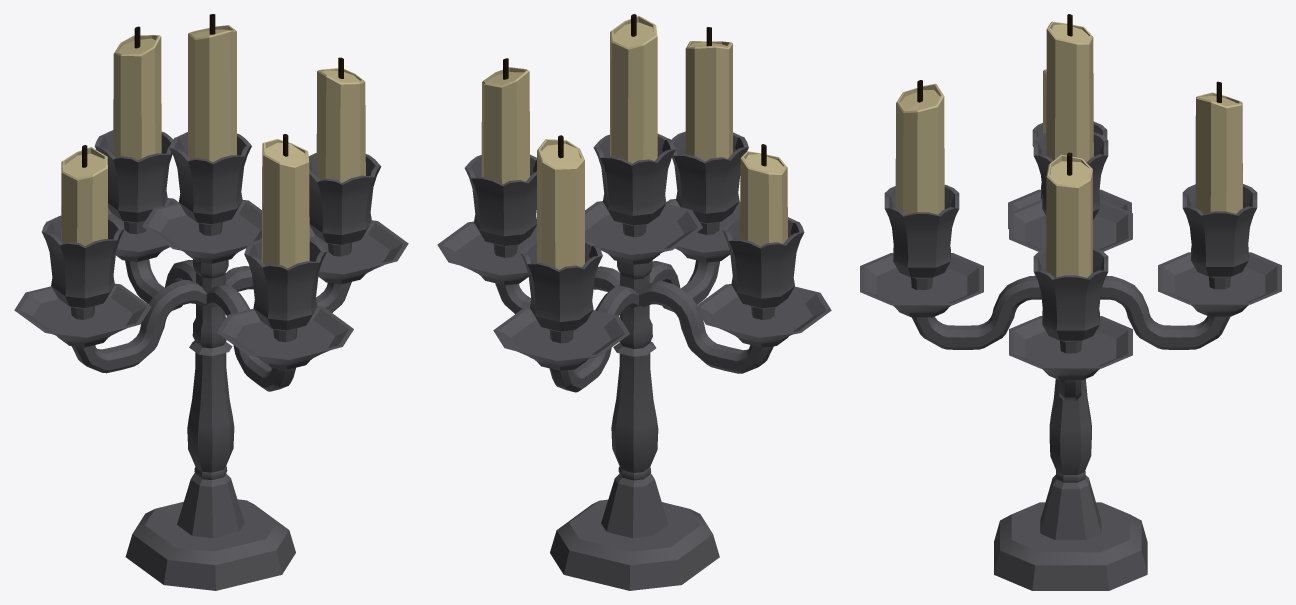
The model's file is TableLight.fbx.
3 renders of one model, left to right at view 1: azimuth 30°, elevation 25°; view 2: azimuth 150°, elevation 25°; view 3: azimuth 270°, elevation 25°, orthographic.
Visible parts, largest first — view 1: polySurface7454; view 2: polySurface7454; view 3: polySurface7454.
Part boxes in pixels (x1,y1,x2,y2): polySurface7454: (14,14,408,590); polySurface7454: (437,14,831,590); polySurface7454: (860,14,1281,590).
Size of the model in its own units: 0.3801 by 0.5393 by 0.3788.
